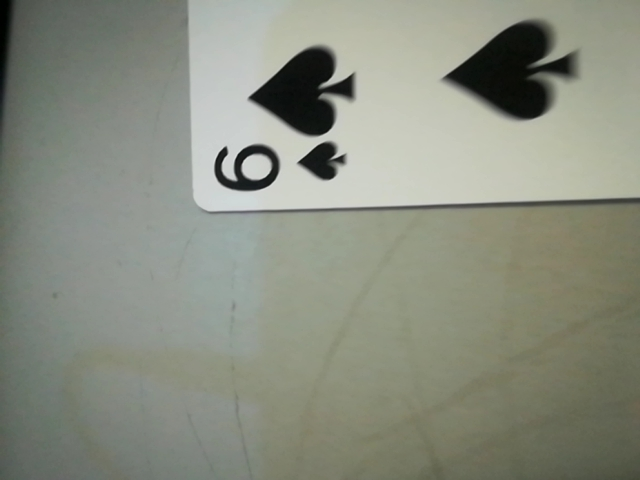ht 6: (200, 125, 363, 207)
